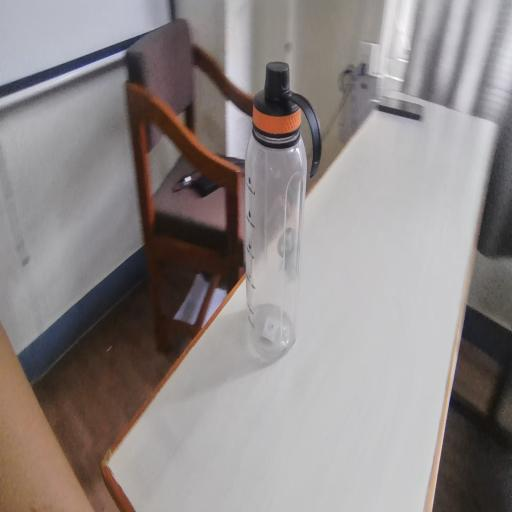Bottle: (241, 89, 317, 370)
